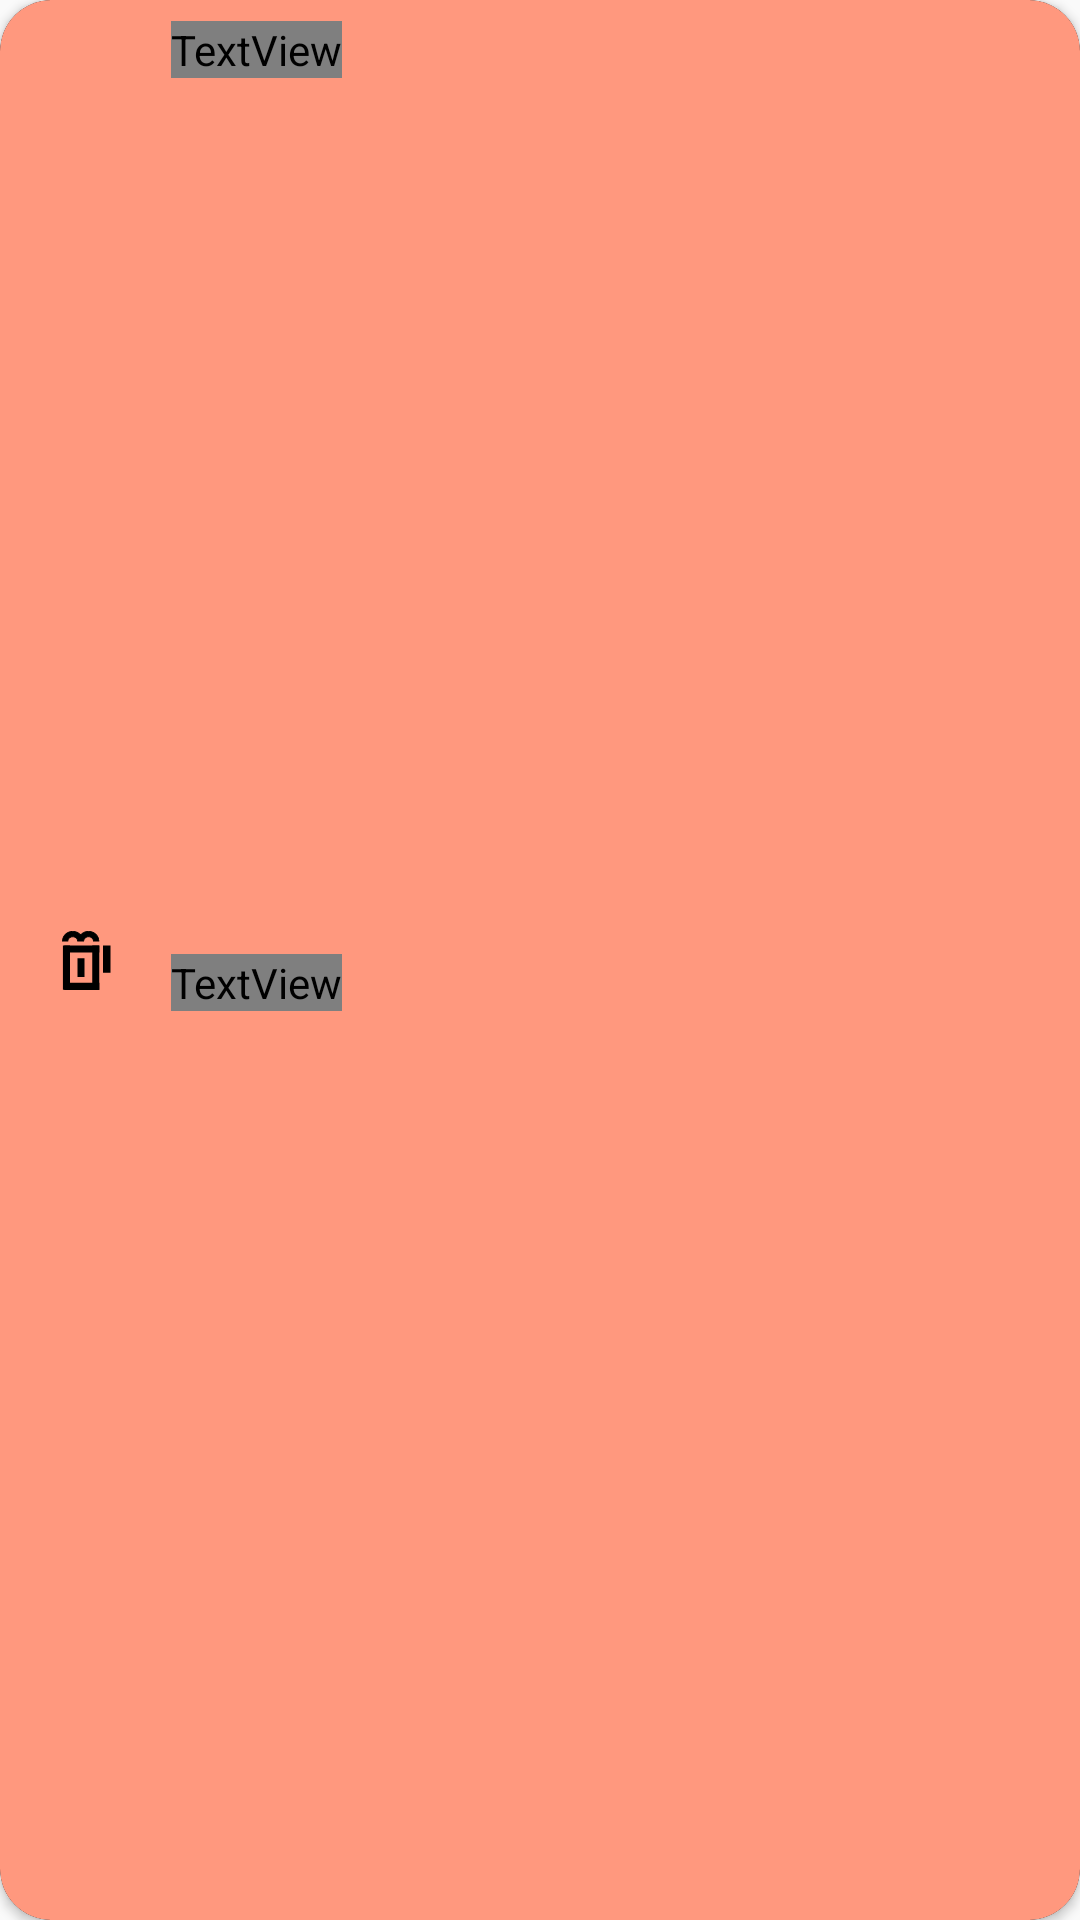

Where icons sit on this 1080w x 1920h app screen, as BBox(x1, y1, x2, y2):
mypl drink: BBox(62, 931, 111, 990)
